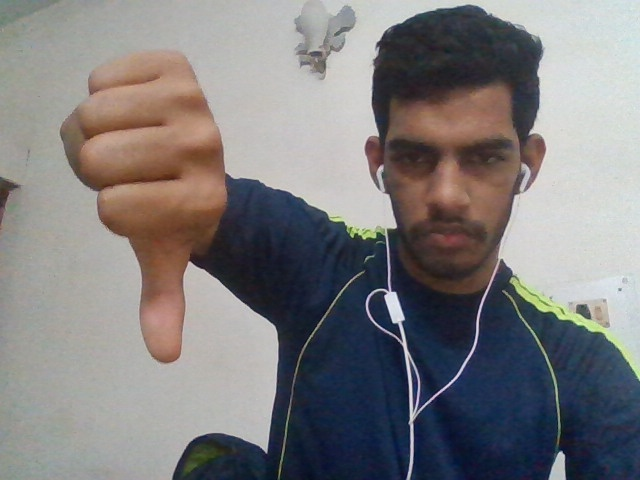no: (69, 30, 252, 378)
